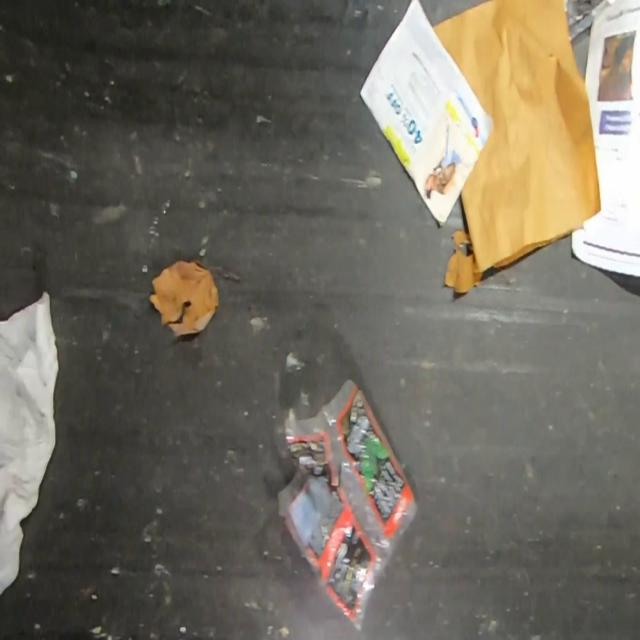soft_plastic: (271, 378, 420, 633)
